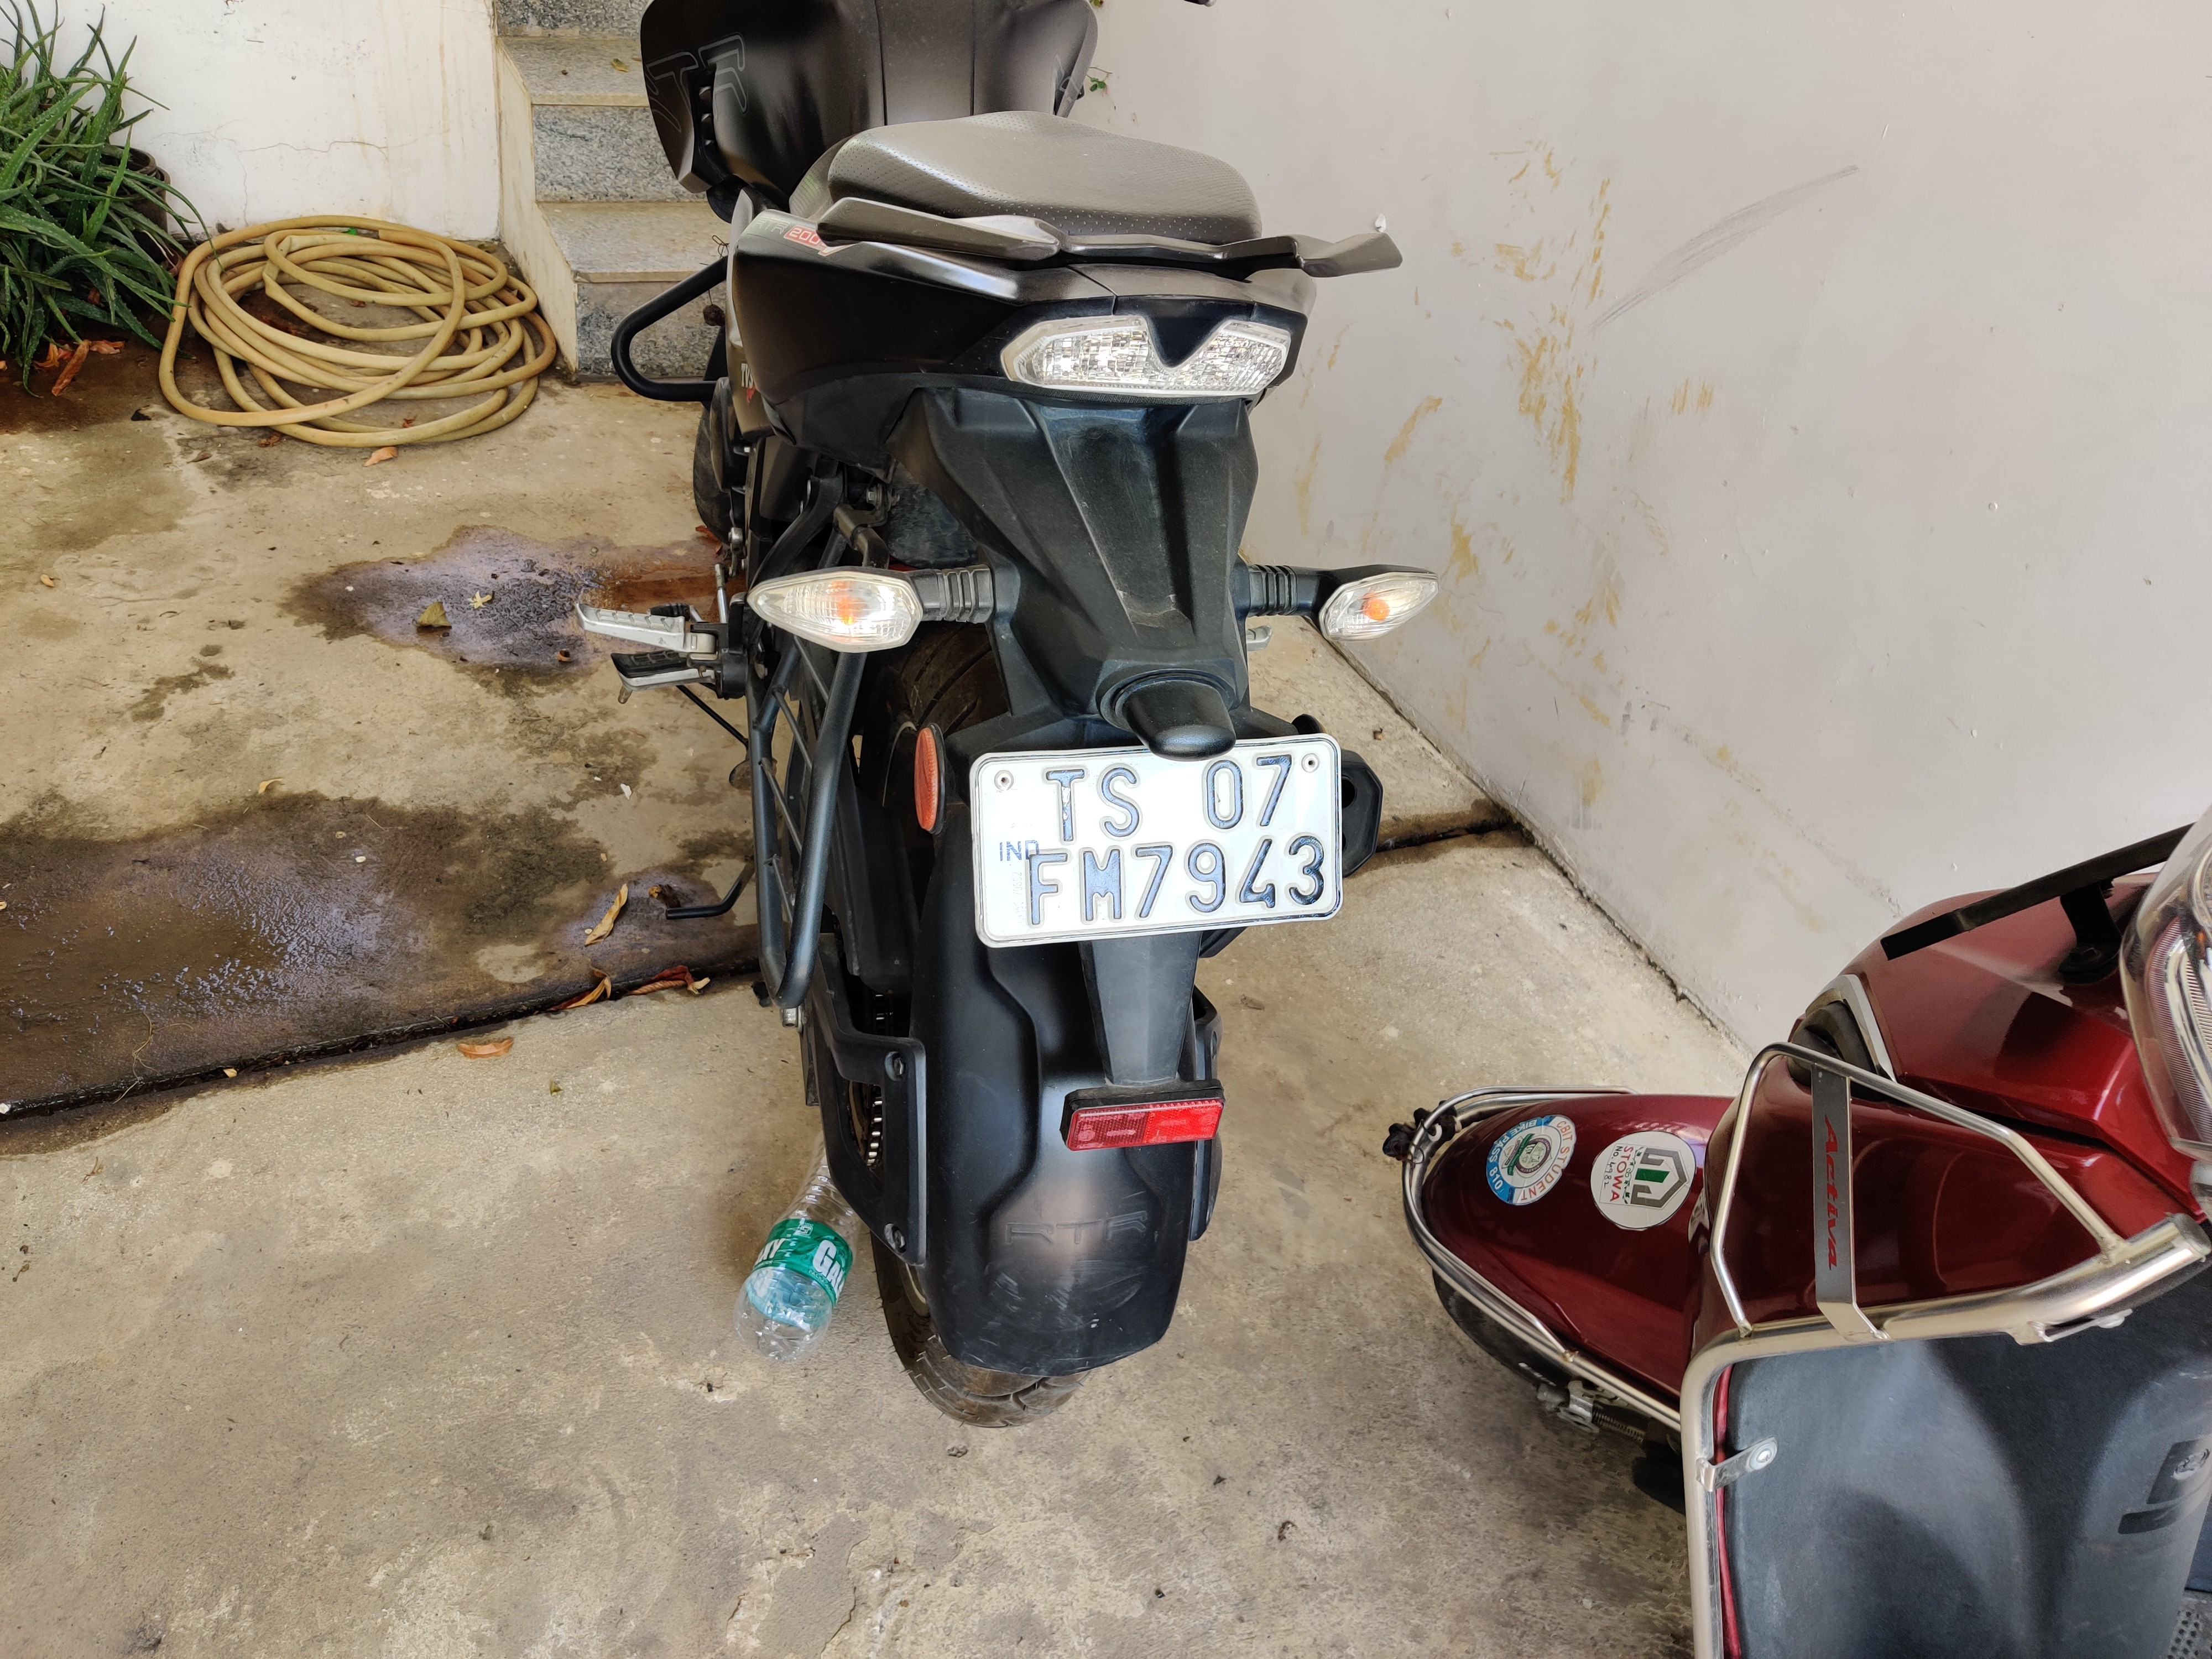plate: (926, 707, 1442, 979)
